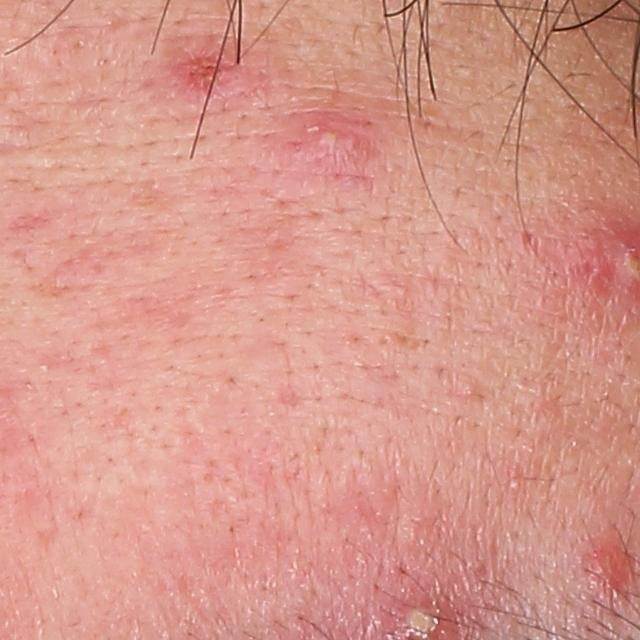comedo: (460, 380, 487, 407)
papule: (168, 48, 240, 104), (591, 536, 629, 590)
pustule: (279, 112, 368, 174)
